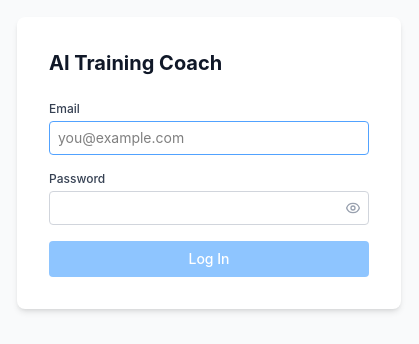
LoginPage form behavior and error states › shows "Network error — please try again" on network failure (fetch throws)
This screenshot has width=419, height=344.
Type "user@example.com" into the field labelled "Email" at (209, 138), box [49,121,369,155]
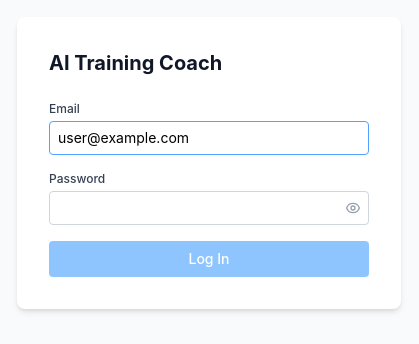
Type "password123" into the password field labelled "Password" at (209, 208), box [49,191,369,225]
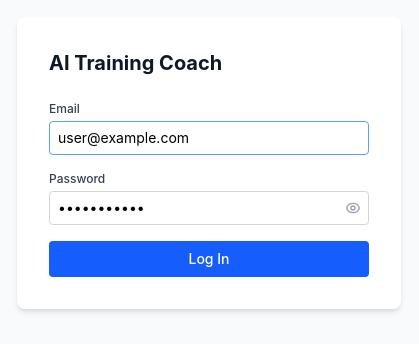
Click the button "Log In" at (209, 259), box [49,241,369,277]
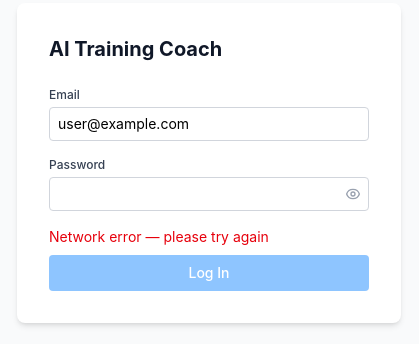
Check: the text "Network error — please try again" is shown, box [49,228,269,245]
